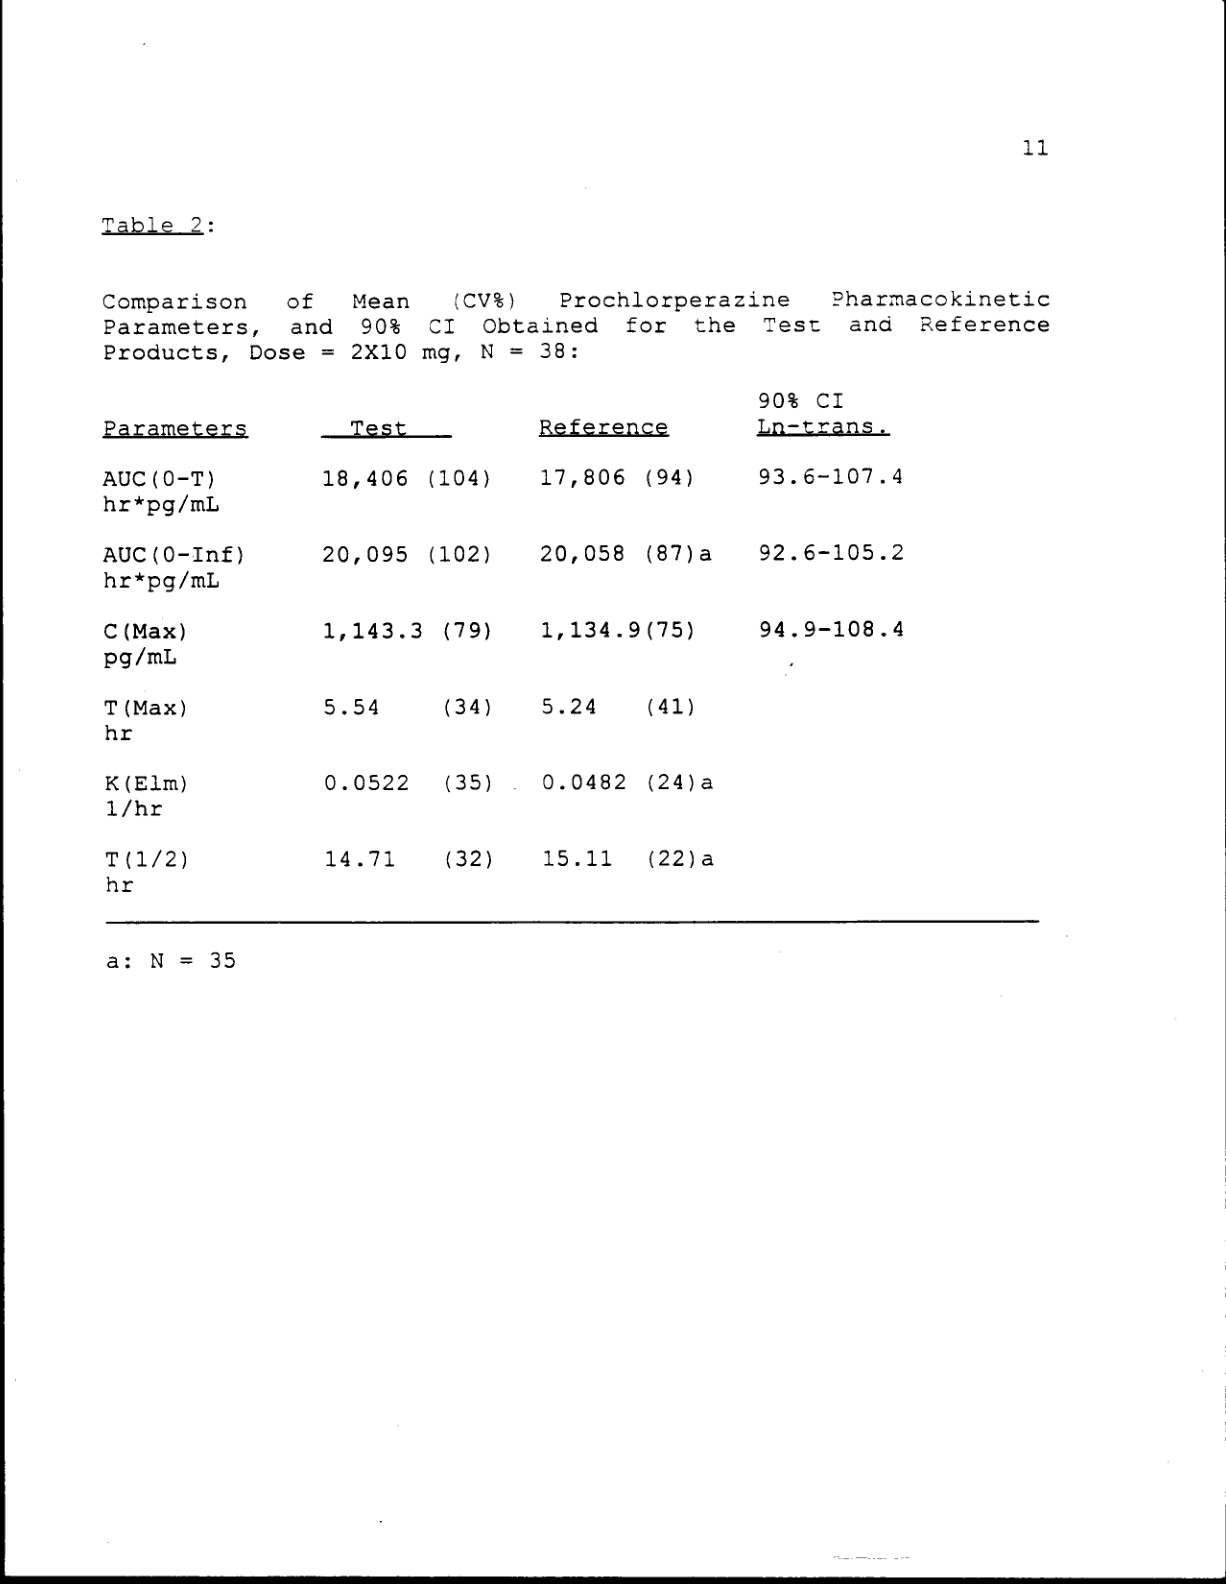nolines: (96, 386, 911, 897)
